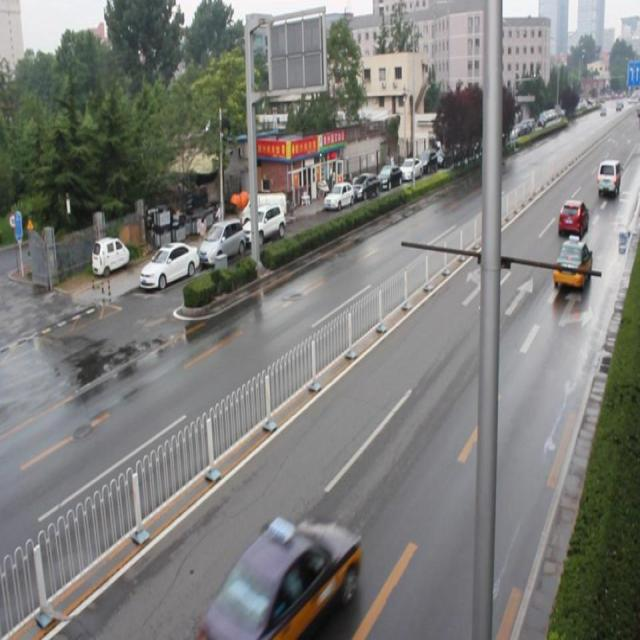car: (205, 510, 360, 630), (552, 235, 591, 290), (556, 197, 586, 234)
truck: (596, 159, 618, 197)
